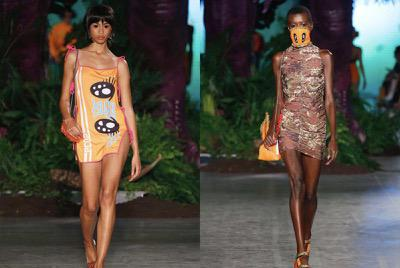with_mask: (288, 21, 311, 44)
without_mask: (89, 21, 111, 44)
